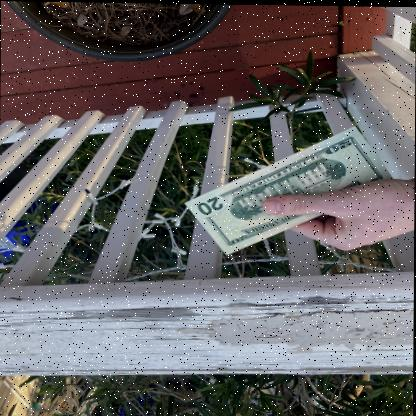twenty-back: (181, 121, 390, 258)
